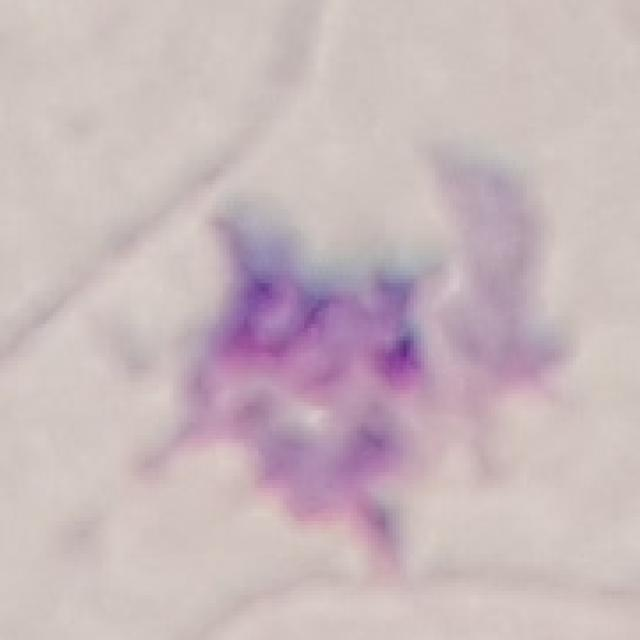non-sperm: (201, 209, 423, 568)
